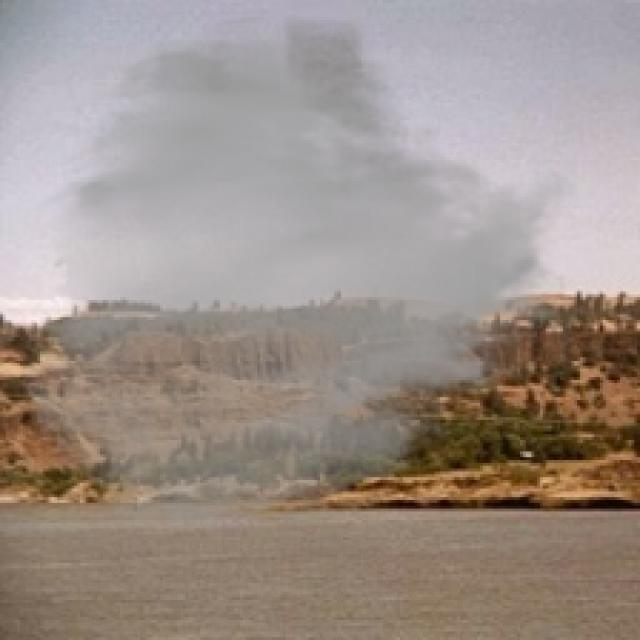smoke: (17, 9, 580, 537)
